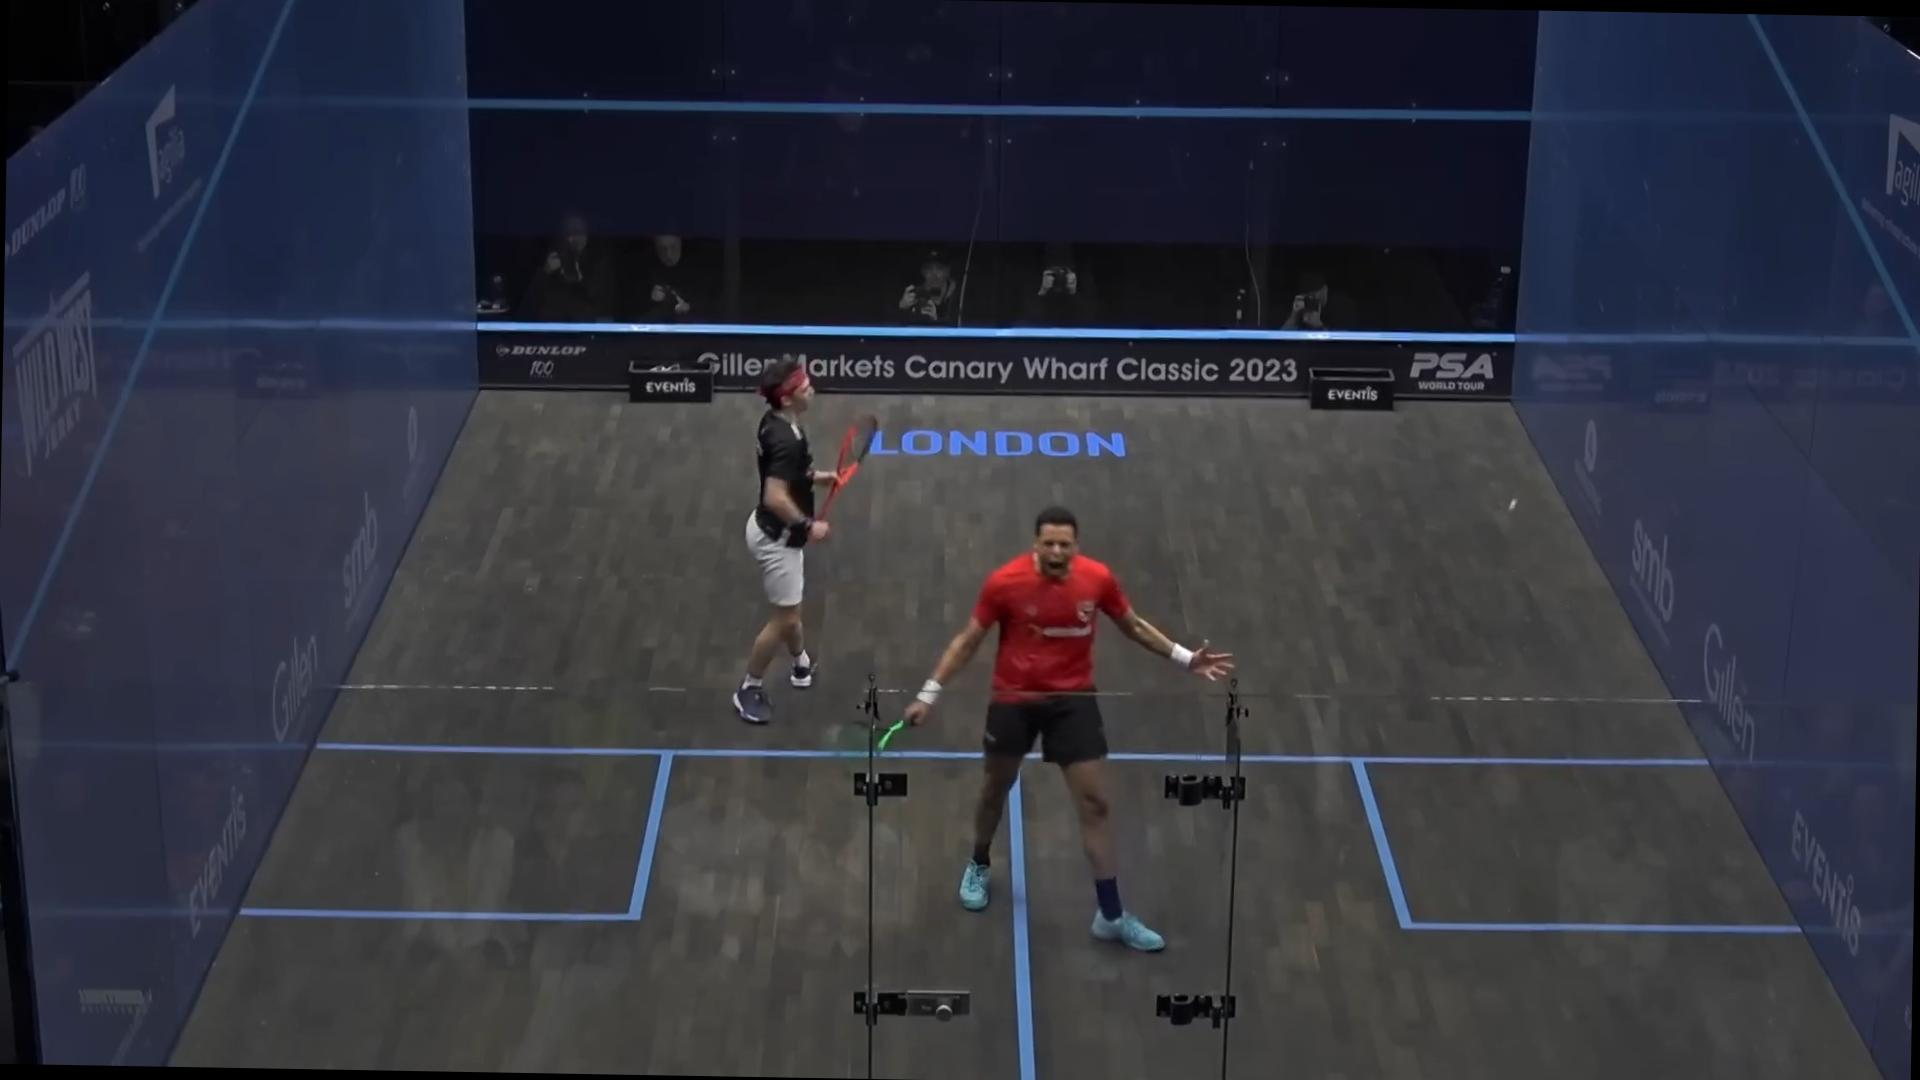Racket: (822, 407, 884, 520)
